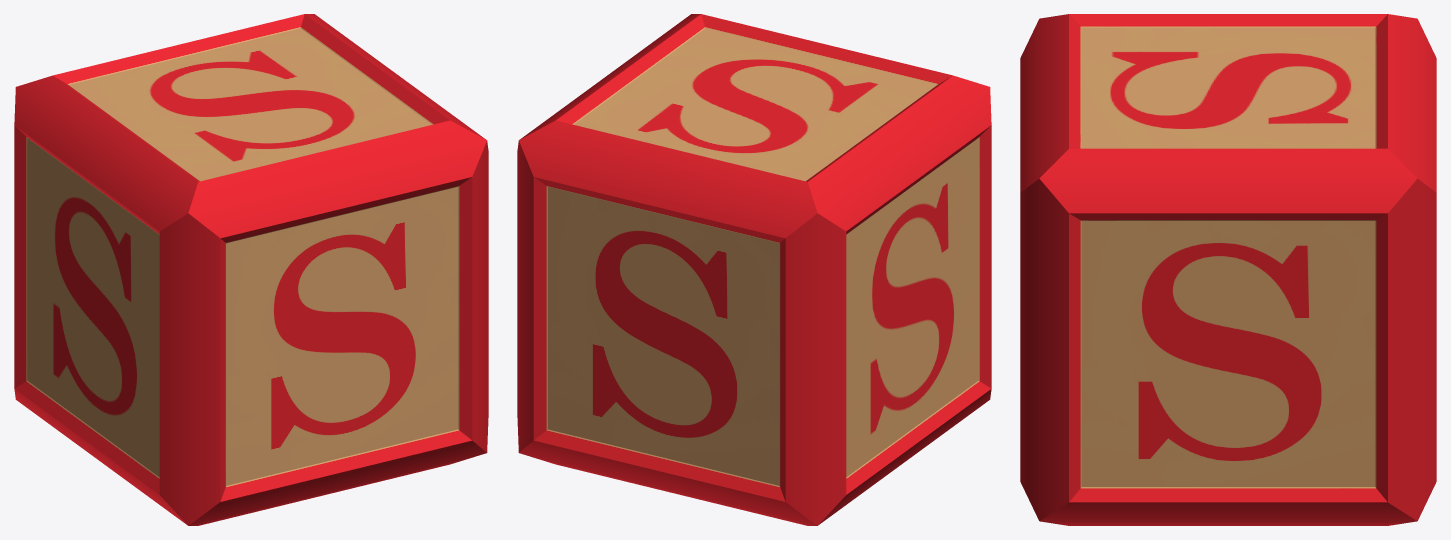
The picture shows the model from 3 angles, left to right: view 1: azimuth 30°, elevation 25°; view 2: azimuth 150°, elevation 25°; view 3: azimuth 270°, elevation 25°; orthographic projection. The views are drawn at different scales.
Parts seen in each view (by area): view 1: pCube1; view 2: pCube1; view 3: pCube1.
Boxes of the visible parts, x1,y1,x2,y2 form: pCube1: [14, 14, 488, 525]; pCube1: [517, 14, 991, 525]; pCube1: [1020, 14, 1436, 525].
Bounding box in the file's own units: 0.4114 × 0.4114 × 0.4114.
1 material, 1 textured.
